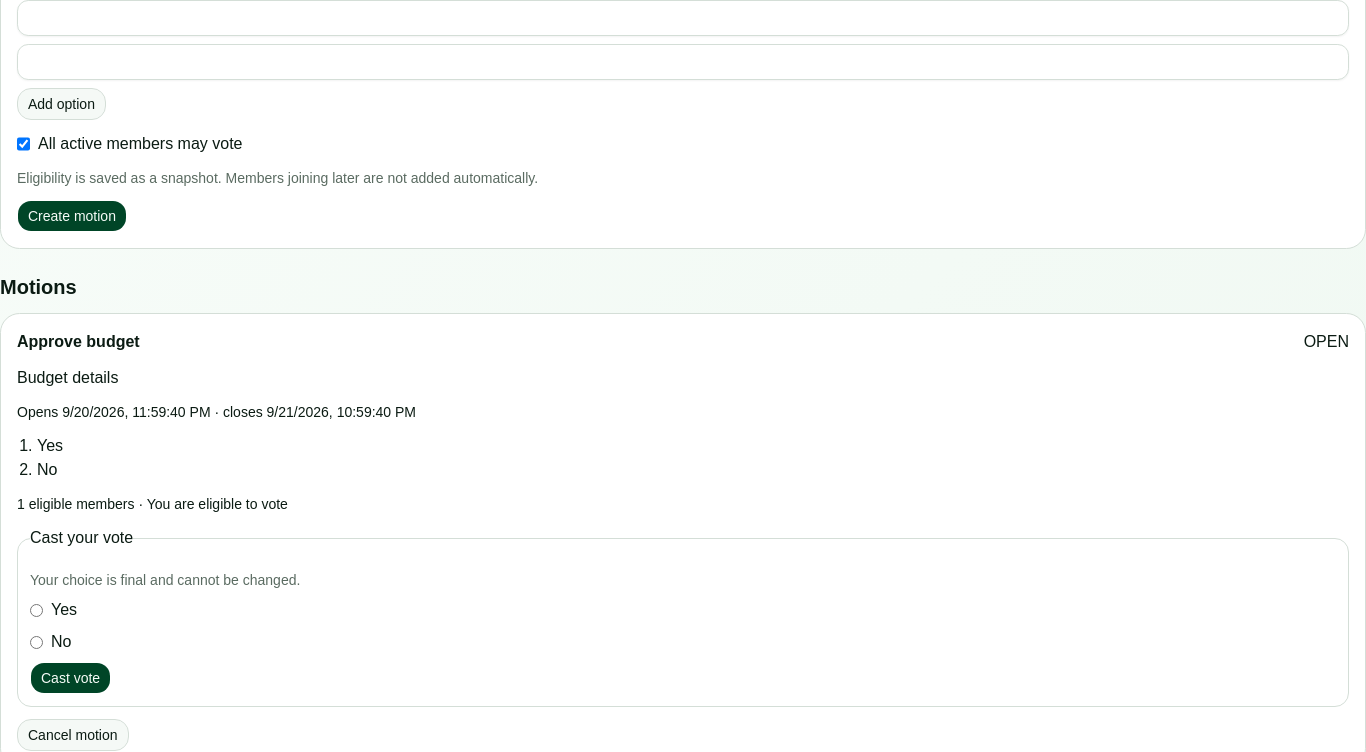
Test: keeps the ballot selected when vote submission fails
(page scrolled)
Expected: the heading "Approve budget" is shown, [17,330,140,354]
Click the radio button labelled "No" at [36, 642], box [30,636,43,648]
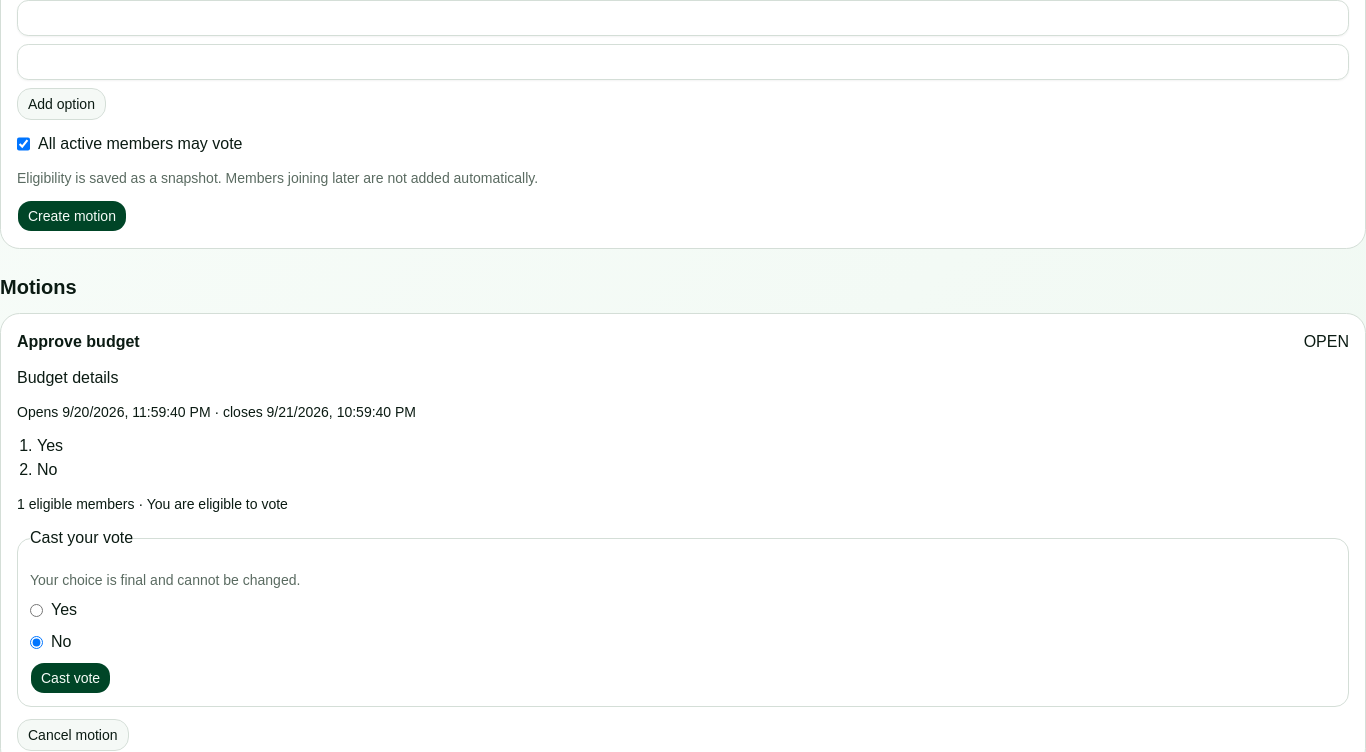
Click the button "Cast vote" at [71, 678], box [30,662,111,694]
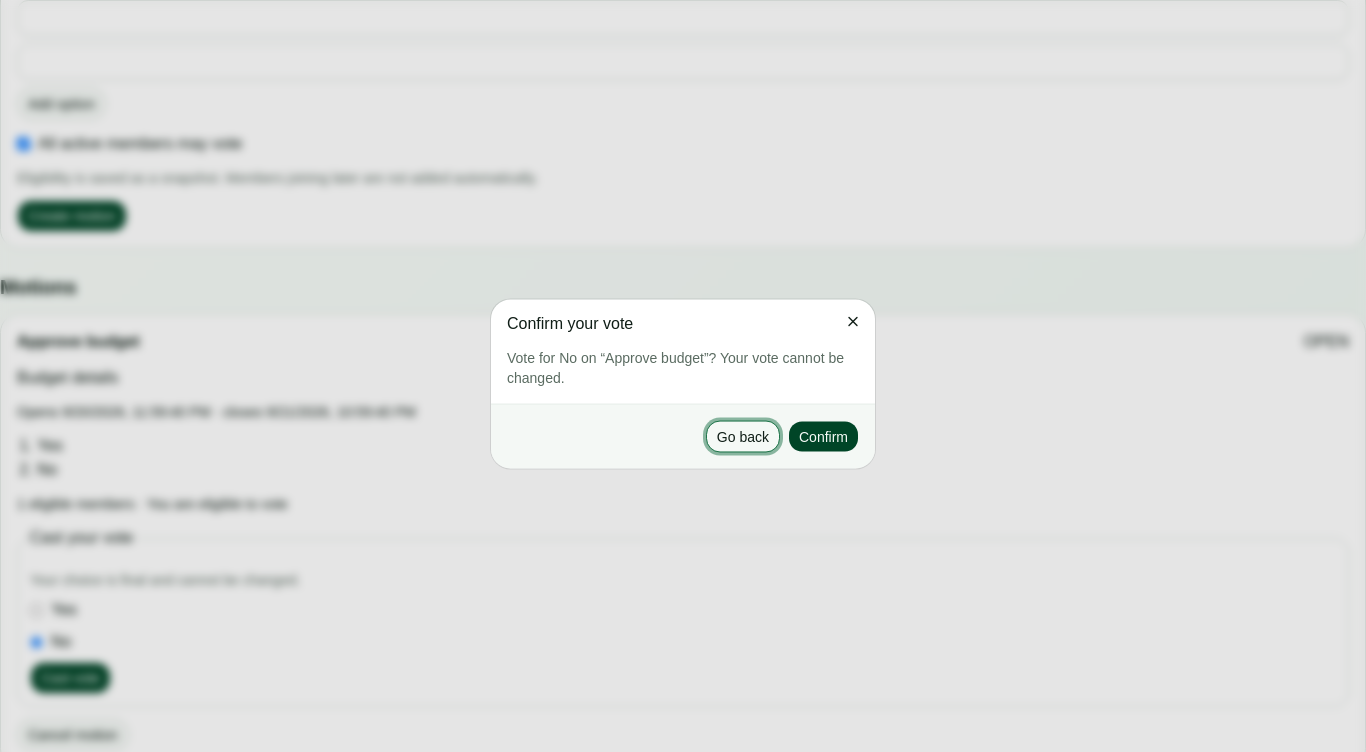
Click the button "Confirm" at [824, 436], box [788,420,859,452]
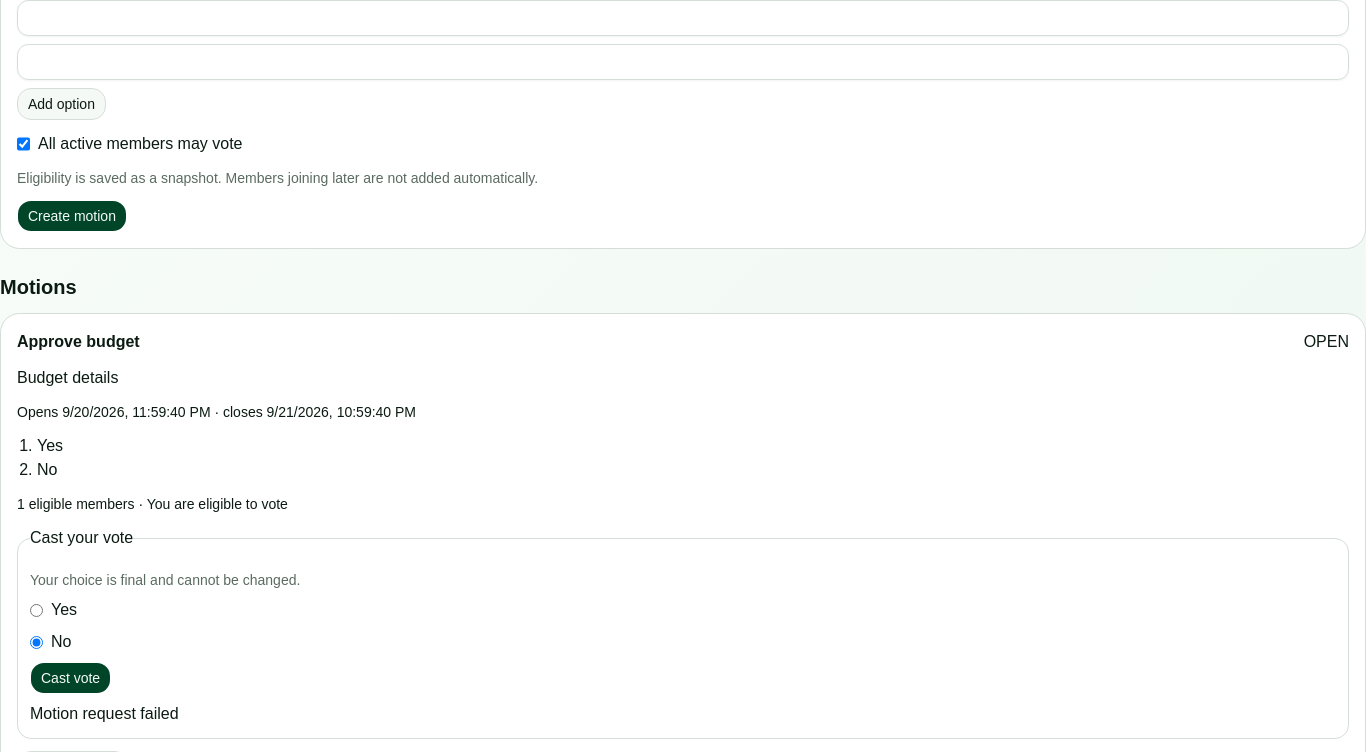
Result: the radio button labelled "No" is checked at [30,636,43,648]
Result: the message reads "Motion request failed" at [30,705,178,722]
